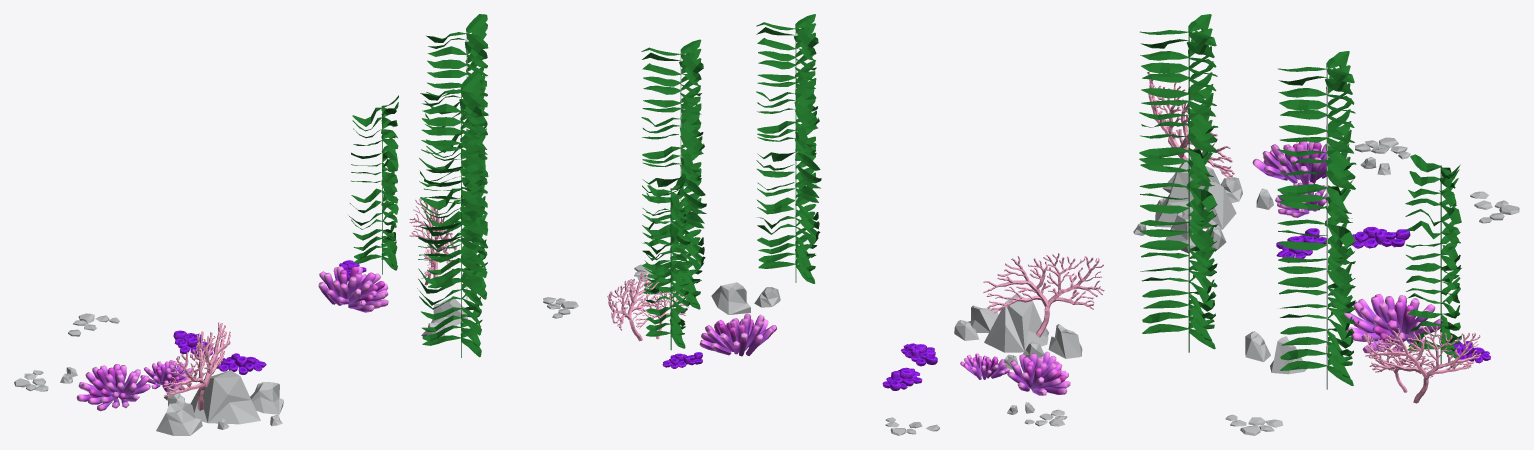
Rendered from sea_scene.glb.
3 views of the same model, side by side, from view 1: azimuth 30°, elevation 25°; view 2: azimuth 150°, elevation 25°; view 3: azimuth 270°, elevation 25° (orthographic). The views are drawn at different scales.
Visible parts, largest first — view 1: kelp, sea_rocks, coral, coral_fern, leaves.003, leaves.002, sm_leaves, sm_leaves.002, coral_floor, leaves.001; view 2: kelp, sea_rocks, coral, coral_fern, leaves.003, leaves.001, coral_floor, sm_leaves.002, sm_leaves.001, leaves.002, sm_leaves; view 3: kelp, sea_rocks, leaves.002, coral, leaves.001, coral_fern, sm_leaves, leaves.003, coral_floor, sm_leaves.001, sm_leaves.002, stem.
Part boxes in pixels (x1=…): kelp: x1=417, y1=71, x2=482, y2=357; sea_rocks: x1=14, y1=297, x2=578, y2=435; coral: x1=76, y1=266, x2=388, y2=411; coral_fern: x1=163, y1=197, x2=456, y2=410; leaves.003: x1=423, y1=32, x2=466, y2=288; leaves.002: x1=465, y1=33, x2=488, y2=299; sm_leaves: x1=381, y1=107, x2=398, y2=270; sm_leaves.002: x1=348, y1=107, x2=382, y2=263; coral_floor: x1=173, y1=260, x2=366, y2=374; leaves.001: x1=465, y1=14, x2=487, y2=278; kelp: x1=756, y1=14, x2=821, y2=283; sea_rocks: x1=634, y1=264, x2=1082, y2=435; coral: x1=699, y1=313, x2=1070, y2=395; coral_fern: x1=607, y1=253, x2=1104, y2=341; leaves.003: x1=679, y1=54, x2=706, y2=309; leaves.001: x1=641, y1=47, x2=681, y2=294; coral_floor: x1=662, y1=343, x2=937, y2=390; sm_leaves.002: x1=670, y1=191, x2=690, y2=348; sm_leaves.001: x1=644, y1=185, x2=670, y2=336; leaves.002: x1=680, y1=39, x2=702, y2=288; sm_leaves: x1=669, y1=173, x2=686, y2=332; kelp: x1=1139, y1=14, x2=1218, y2=352; sea_rocks: x1=1133, y1=137, x2=1519, y2=435; leaves.002: x1=1277, y1=67, x2=1327, y2=370; coral: x1=1252, y1=141, x2=1443, y2=356; leaves.001: x1=1325, y1=68, x2=1356, y2=385; coral_fern: x1=1147, y1=72, x2=1480, y2=403; sm_leaves: x1=1405, y1=154, x2=1440, y2=350; leaves.003: x1=1324, y1=51, x2=1353, y2=365; coral_floor: x1=1276, y1=226, x2=1490, y2=363; sm_leaves.001: x1=1440, y1=168, x2=1461, y2=359; sm_leaves.002: x1=1439, y1=164, x2=1461, y2=344; stem: x1=1326, y1=67, x2=1327, y2=389.
Bounding box in the file's own units: 4.14 × 2.2 × 2.28.
Materials: 5 (2 with a texture image).
